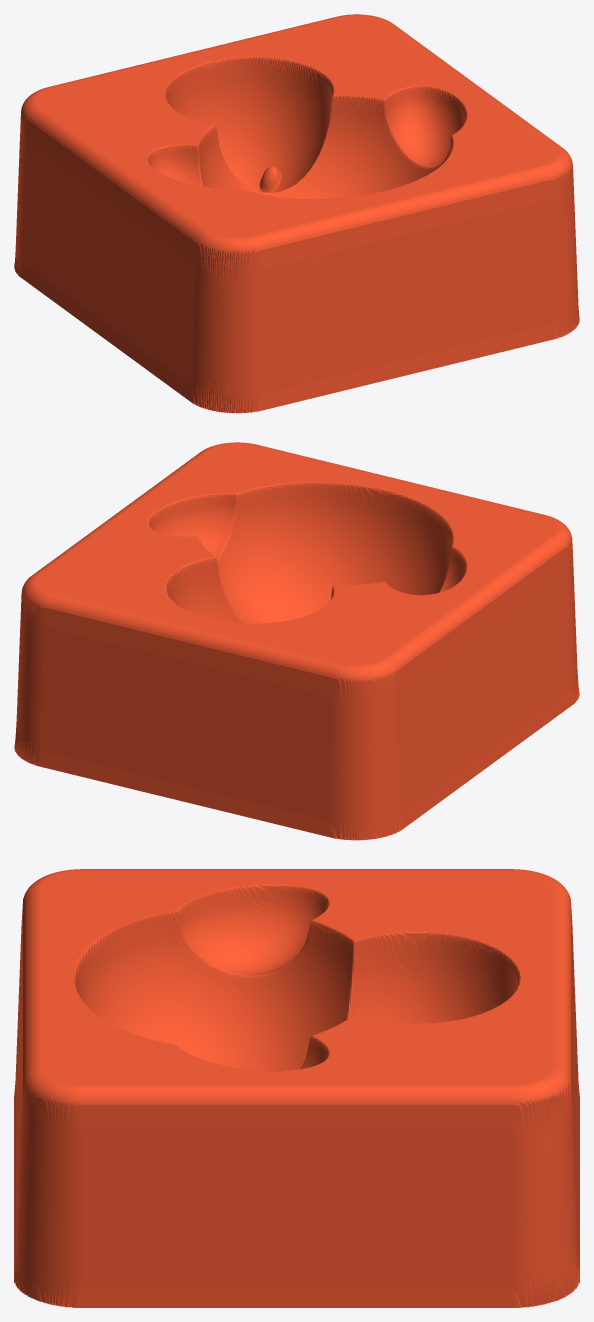
File: mold.glb
3 views of the same model, one above another, from view 1: azimuth 30°, elevation 25°; view 2: azimuth 150°, elevation 25°; view 3: azimuth 270°, elevation 25° (orthographic). The views are drawn at different scales.
Visible parts, largest first — view 1: geometry_0; view 2: geometry_0; view 3: geometry_0.
Part boxes in pixels (x1,y1,x2,y2): geometry_0: (14,14,579,413); geometry_0: (14,442,579,840); geometry_0: (14,869,579,1307).
Size of the model in its own units: 0.0742 by 0.031 by 0.075.
